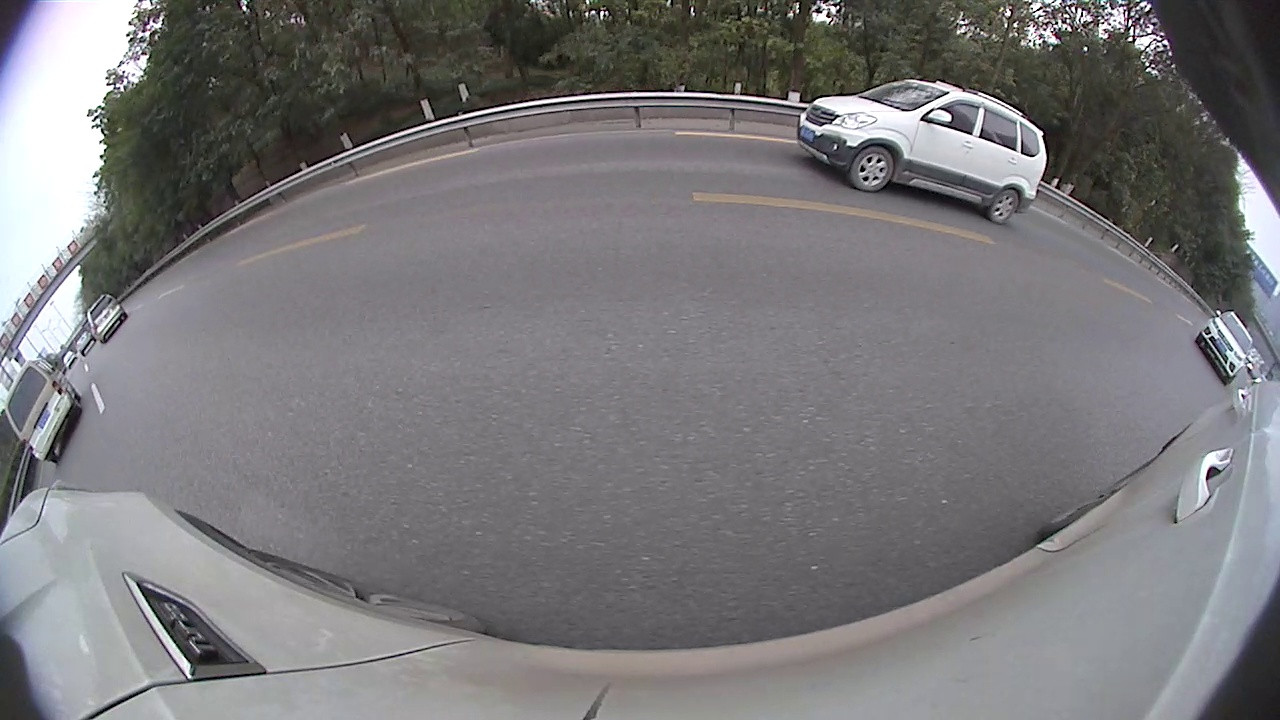bus: (845, 133, 1037, 197), (771, 133, 825, 197)
car: (852, 141, 1145, 321), (293, 117, 532, 274), (593, 114, 784, 247), (522, 159, 580, 196), (572, 158, 598, 186)
front: (854, 197, 885, 240), (518, 183, 536, 222)
rear: (994, 244, 1057, 312), (426, 204, 469, 260)
